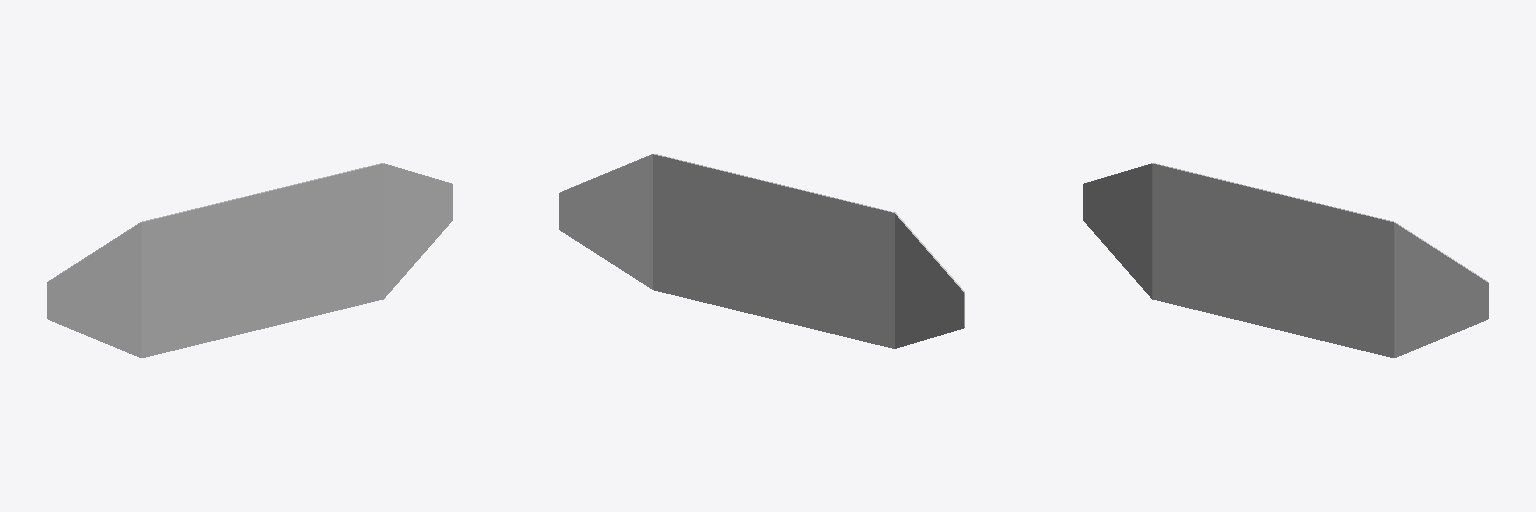
Rendered from pack_top.obj.
3 views of the same model, side by side, from view 1: azimuth 30°, elevation 25°; view 2: azimuth 150°, elevation 25°; view 3: azimuth 330°, elevation 25° (orthographic).
Visible parts, largest first — view 1: PackTop_Entire_Platform—Spot,_VERI17.450; view 2: PackTop_Entire_Platform—Spot,_VERI17.450; view 3: PackTop_Entire_Platform—Spot,_VERI17.450.
Boxes of the visible parts, <box> form: PackTop_Entire_Platform—Spot,_VERI17.450: <box>47,163,452,357</box>; PackTop_Entire_Platform—Spot,_VERI17.450: <box>559,154,964,348</box>; PackTop_Entire_Platform—Spot,_VERI17.450: <box>1083,163,1488,357</box>.
Bounding box in the file's own units: 0.6563 × 0.21 × 0.038.